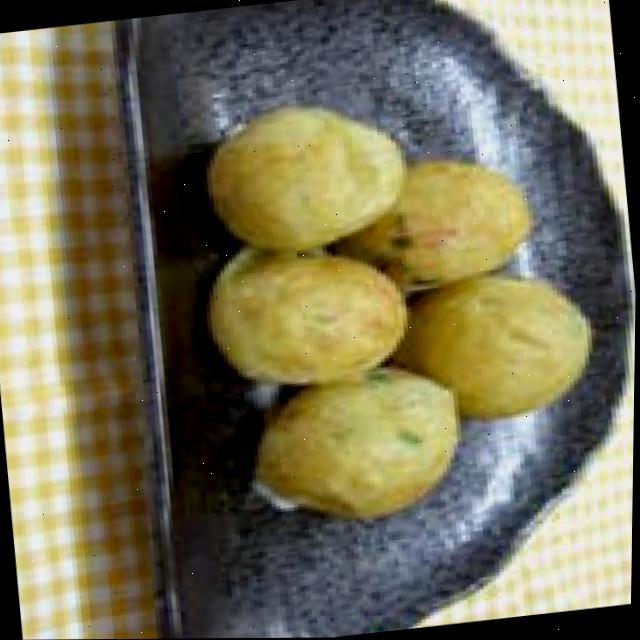炸货点心: (183, 70, 631, 549)
